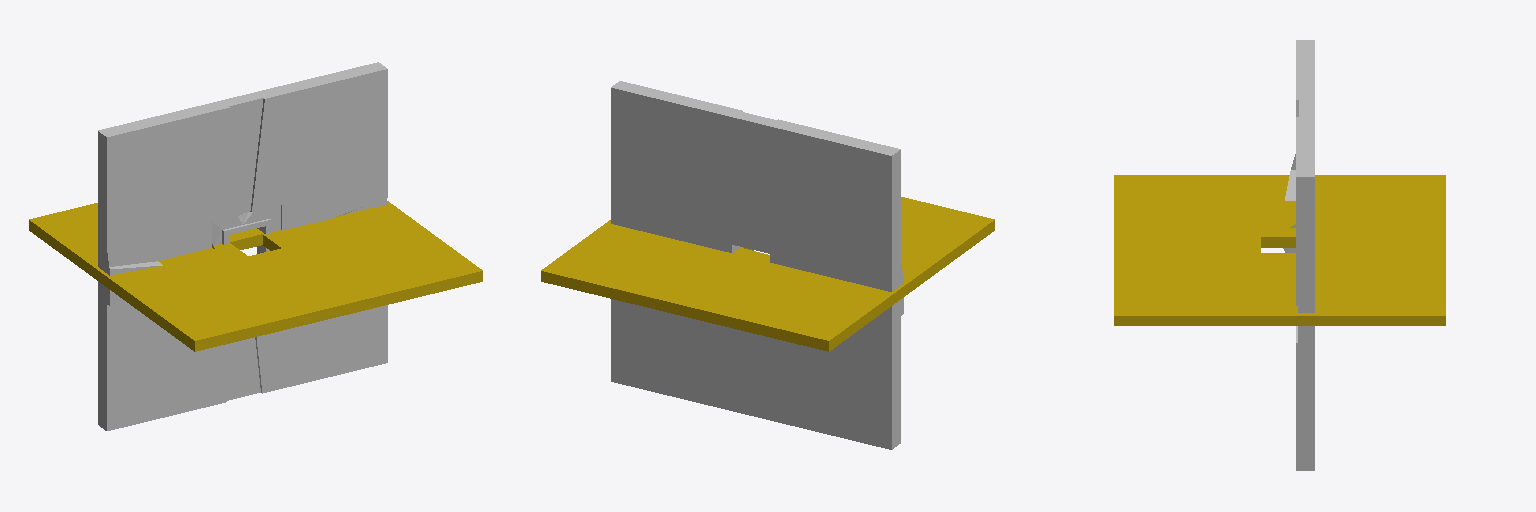
The model's file is Wall3.obj.
3 views of the same model, side by side, from view 1: azimuth 30°, elevation 25°; view 2: azimuth 150°, elevation 25°; view 3: azimuth 270°, elevation 25° (orthographic).
Parts seen in each view (by area): view 1: Wall.006_Cube.006, Plane; view 2: Wall.006_Cube.006, Plane; view 3: Plane, Wall.006_Cube.006.
Part boxes in pixels (x1,y1,x2,y2): Wall.006_Cube.006: (98,62,387,430); Plane: (29,201,482,351); Wall.006_Cube.006: (611,81,903,449); Plane: (541,197,994,351); Plane: (1114,175,1445,325); Wall.006_Cube.006: (1283,40,1314,470).
Bounding box in the file's own units: 2.05 × 2 × 2.05.